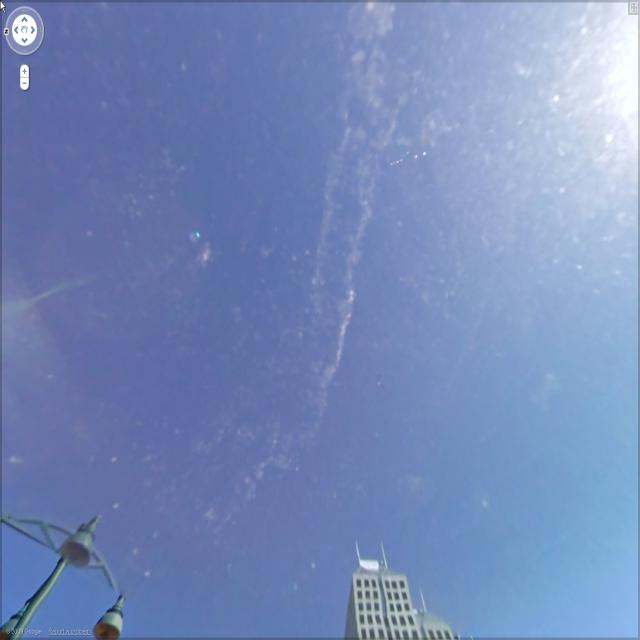b_1: (348, 544, 470, 640)
